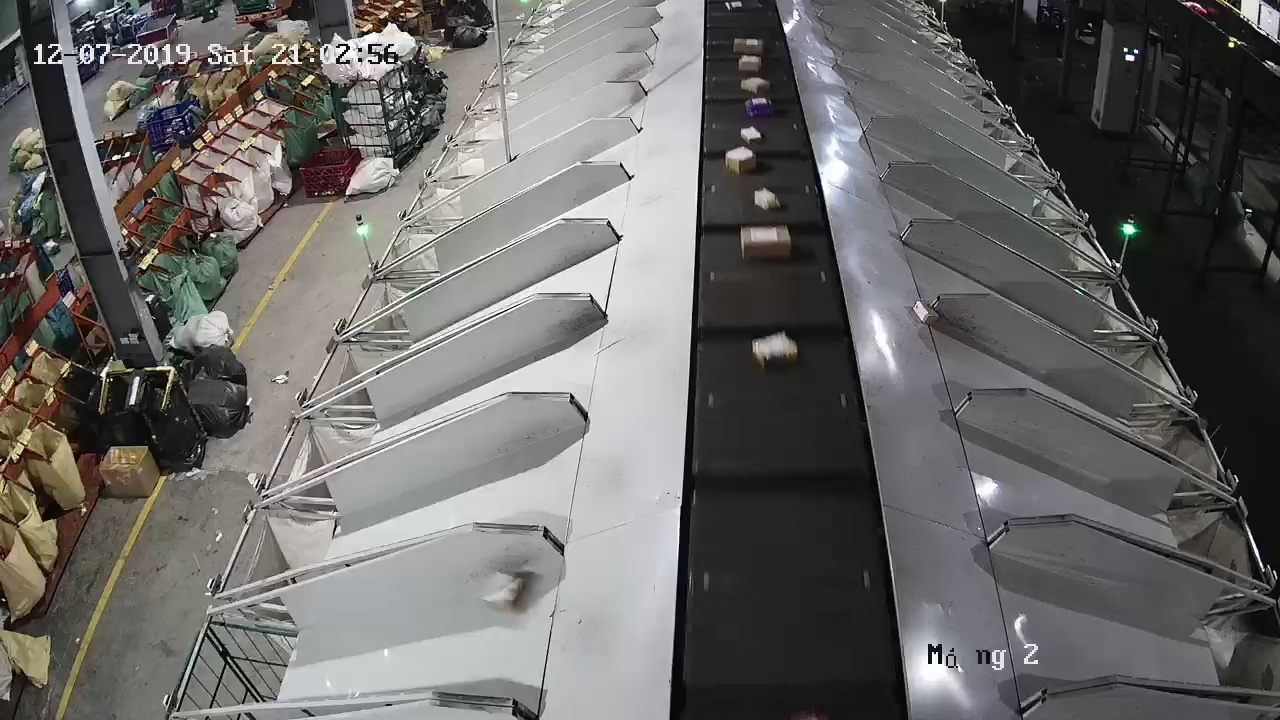parcel: (471, 570, 526, 615)
